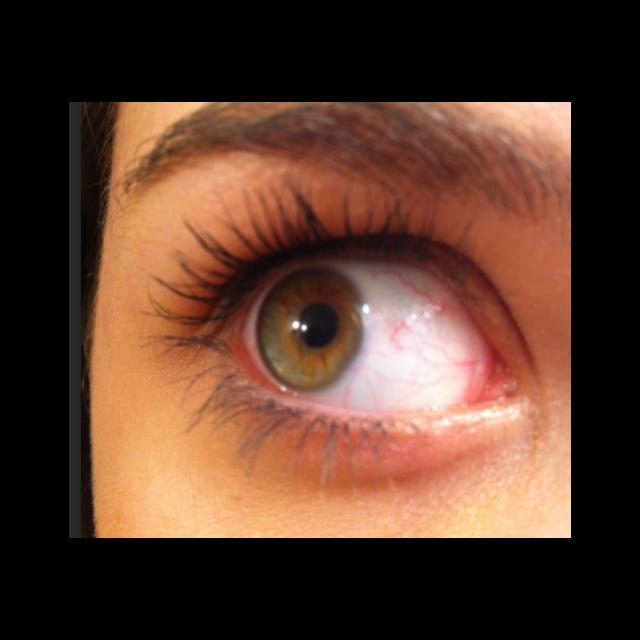eye: (244, 258, 484, 416)
iris: (256, 263, 366, 394)
